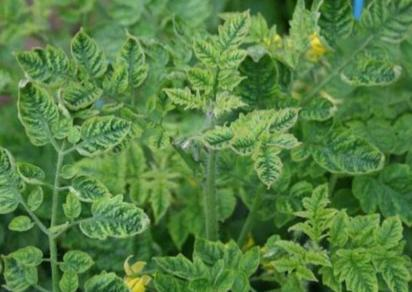Tomato leaf yellow virus: (342, 156, 412, 231), (313, 119, 388, 180), (90, 191, 154, 243), (61, 19, 109, 87), (14, 83, 60, 153), (115, 33, 153, 113), (5, 42, 74, 83), (212, 2, 265, 55), (73, 115, 132, 162), (338, 57, 401, 96), (307, 0, 351, 53), (357, 0, 412, 40), (251, 137, 287, 197), (143, 254, 208, 284), (366, 212, 405, 259), (0, 141, 31, 200), (190, 121, 237, 158), (178, 34, 219, 73), (259, 105, 304, 140), (372, 253, 412, 292), (341, 251, 376, 292), (71, 272, 139, 292), (236, 244, 263, 285), (324, 211, 349, 248), (220, 42, 246, 71), (271, 237, 305, 257)
